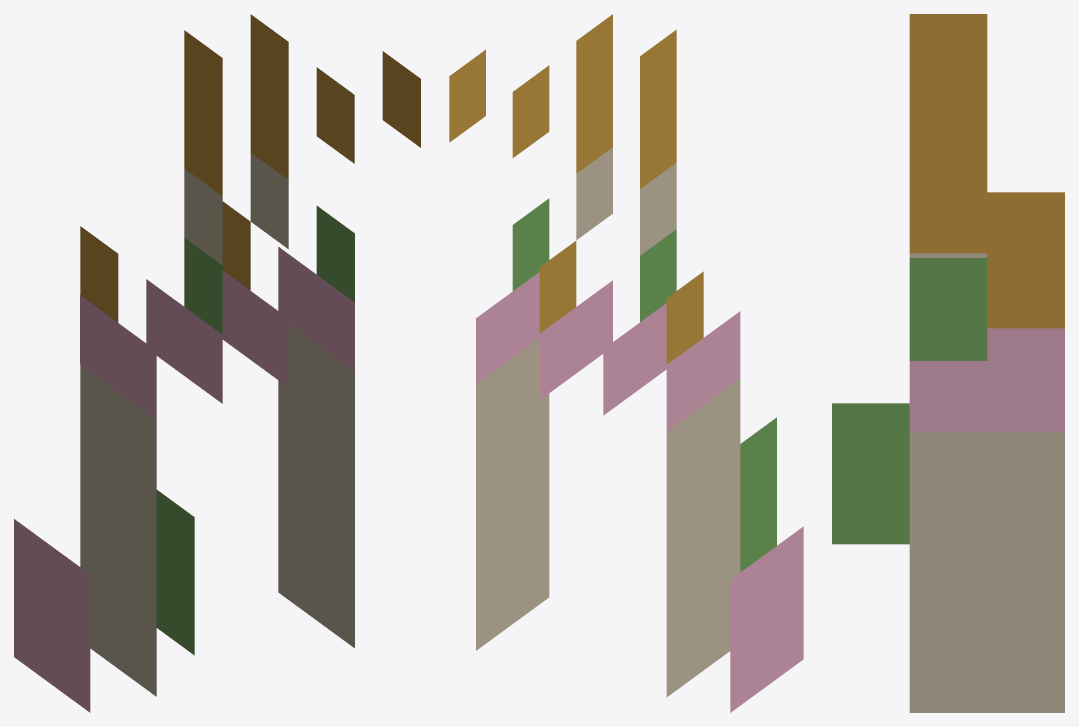
Rendered from britney-acc7.139282ad.glb.
3 views of the same model, side by side, from view 1: azimuth 30°, elevation 25°; view 2: azimuth 150°, elevation 25°; view 3: azimuth 270°, elevation 25° (orthographic). The views are drawn at different scales.
Parts seen in each view (by area): view 1: beige, rosa, dorado, verde; view 2: beige, rosa, dorado, verde; view 3: beige, dorado, verde, rosa.
Boxes of the visible parts, bbox=[...] form: beige: bbox=[80, 153, 354, 696]; rosa: bbox=[14, 247, 354, 712]; dorado: bbox=[80, 14, 420, 322]; verde: bbox=[156, 206, 354, 655]; beige: bbox=[476, 147, 740, 696]; rosa: bbox=[476, 272, 803, 712]; dorado: bbox=[449, 14, 703, 364]; verde: bbox=[512, 198, 776, 572]; beige: bbox=[909, 253, 1064, 712]; dorado: bbox=[909, 14, 1064, 328]; verde: bbox=[832, 258, 987, 544]; rosa: bbox=[909, 328, 1064, 431].
Bounding box in the file's own units: 0.09 × 0.162 × 0.054.
